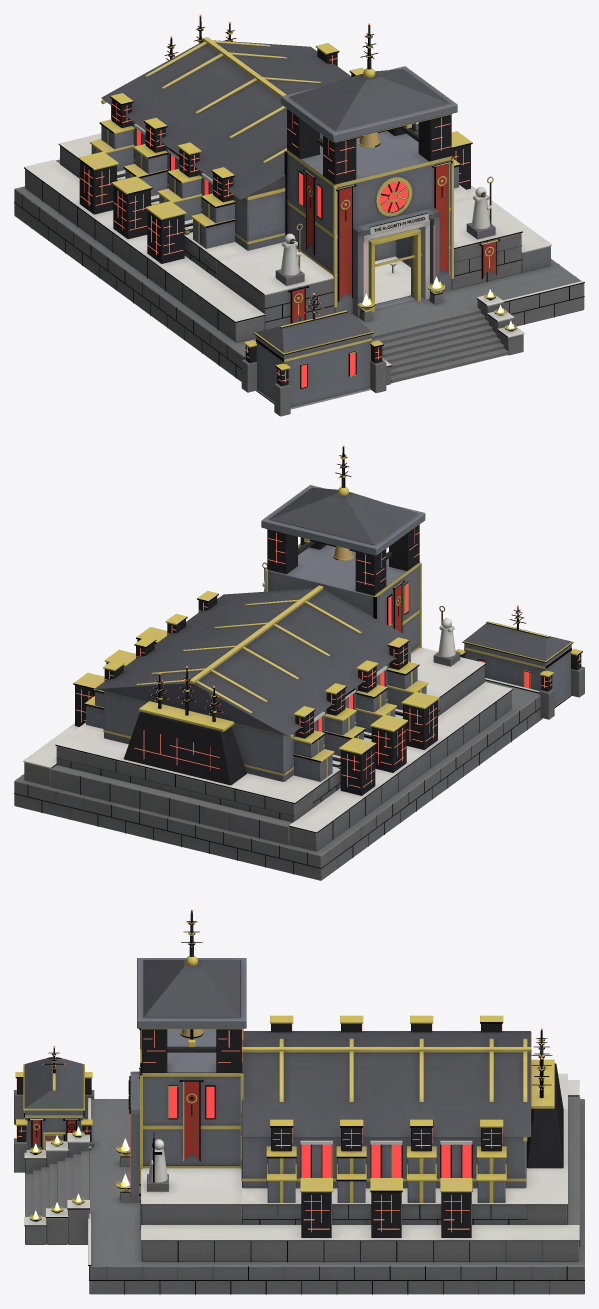
The model's file is reliquary.glb.
The picture shows the model from 3 angles, top to bottom: view 1: azimuth 30°, elevation 25°; view 2: azimuth 150°, elevation 25°; view 3: azimuth 270°, elevation 25°; orthographic projection. The views are drawn at different scales.
Visible parts, largest first — view 1: hull, lights, glass; view 2: hull, lights; view 3: hull, glass, lights.
Boxes of the visible parts, x1,y1,x2,y2 form: hull: [14, 16, 584, 416]; lights: [80, 14, 514, 382]; glass: [137, 129, 408, 387]; hull: [14, 447, 584, 880]; lights: [76, 445, 581, 787]; hull: [14, 911, 584, 1294]; glass: [169, 1086, 471, 1177]; lights: [16, 909, 552, 1232].
Size of the model in its own units: 34.96 by 28.55 by 48.96.
Materials: 19 (14 with a texture image).
